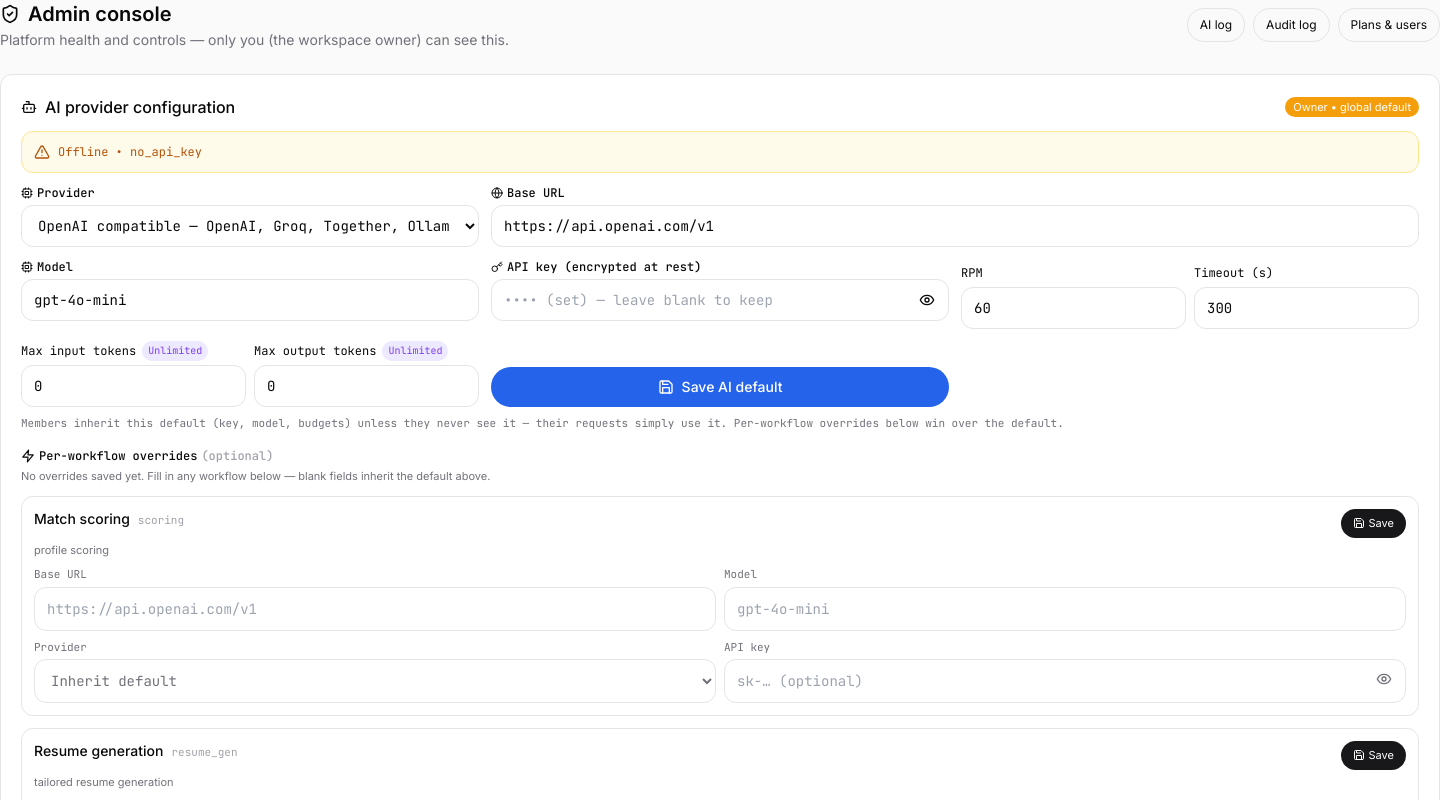
Test case: Admin console: per-workflow overrides › shows the server error when the save is rejected
The width and height of the screenshot is (1440, 800).
Type "gpt-4o" into the field named "Model for scoring".
click(1065, 608); type("gpt-4o")  # box [724,586,1406,630]
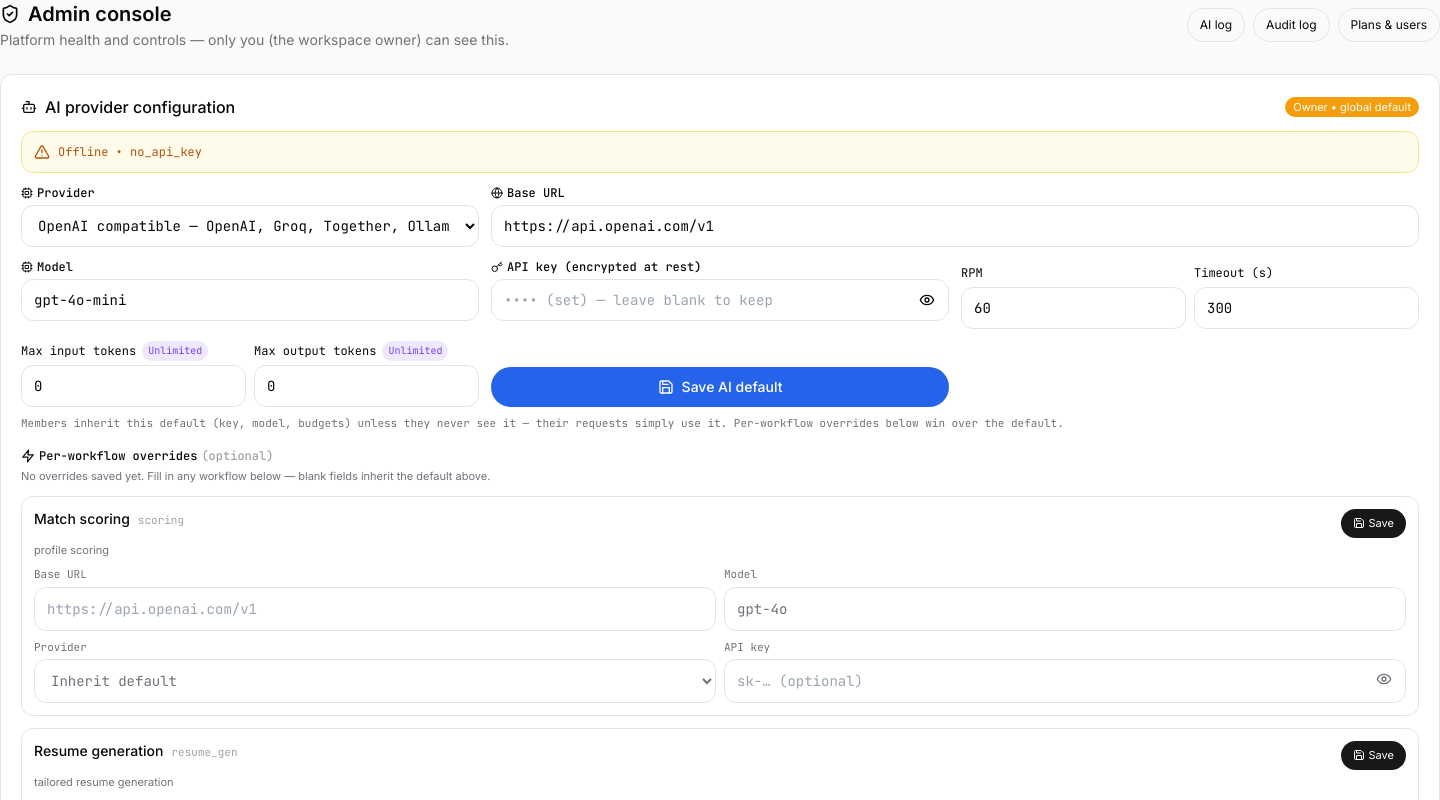
Click the button with aria-label "Save override for scoring".
click(1373, 523)  # box [1340,509,1406,538]
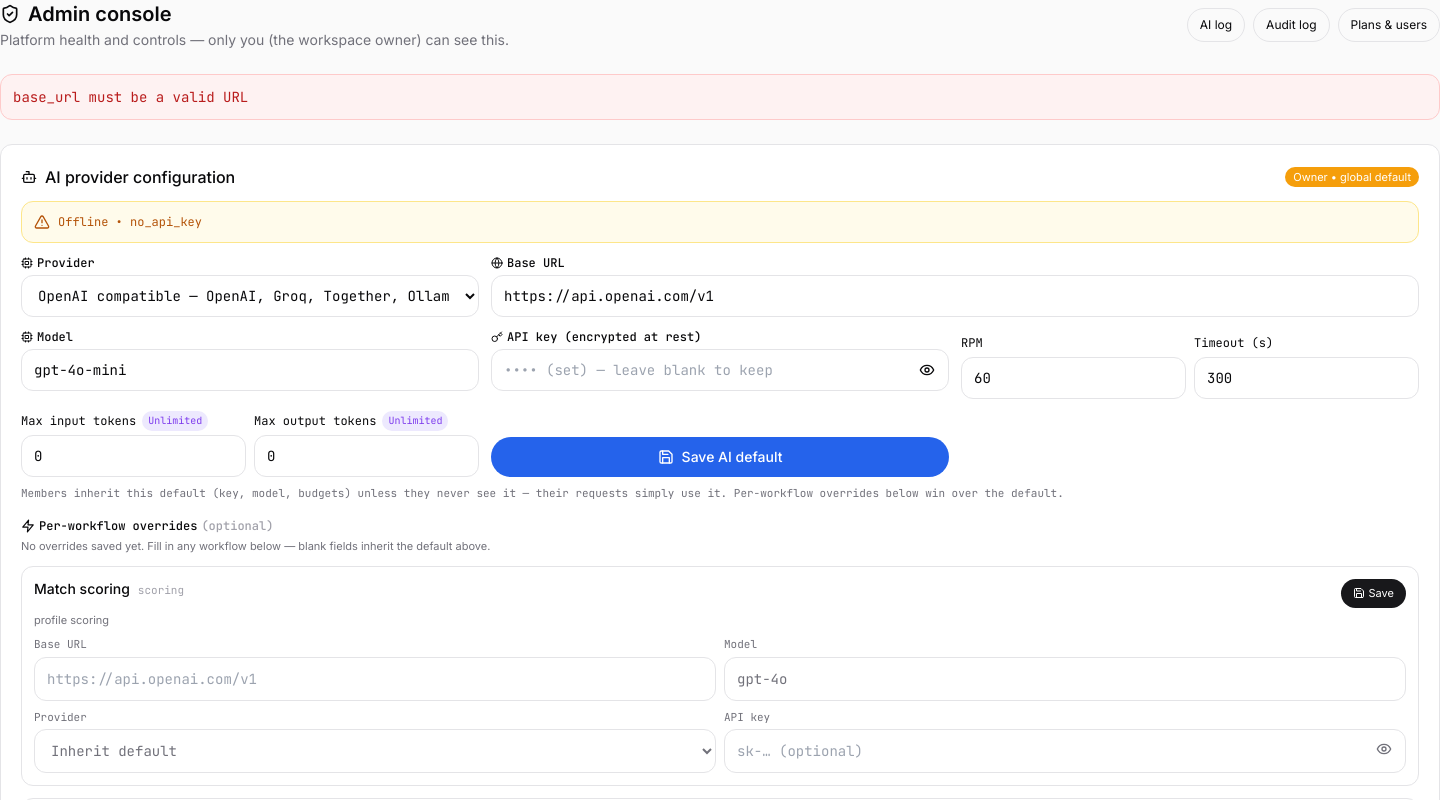
expect the message with test id "admin-notice" reads "base_url must be a valid URL": met, box [13,88,248,106]
